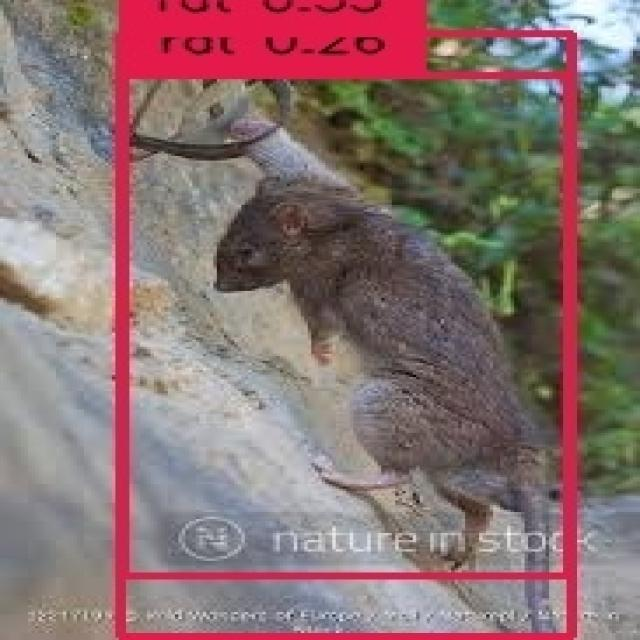rat: (116, 30, 566, 633), (119, 72, 563, 573)
